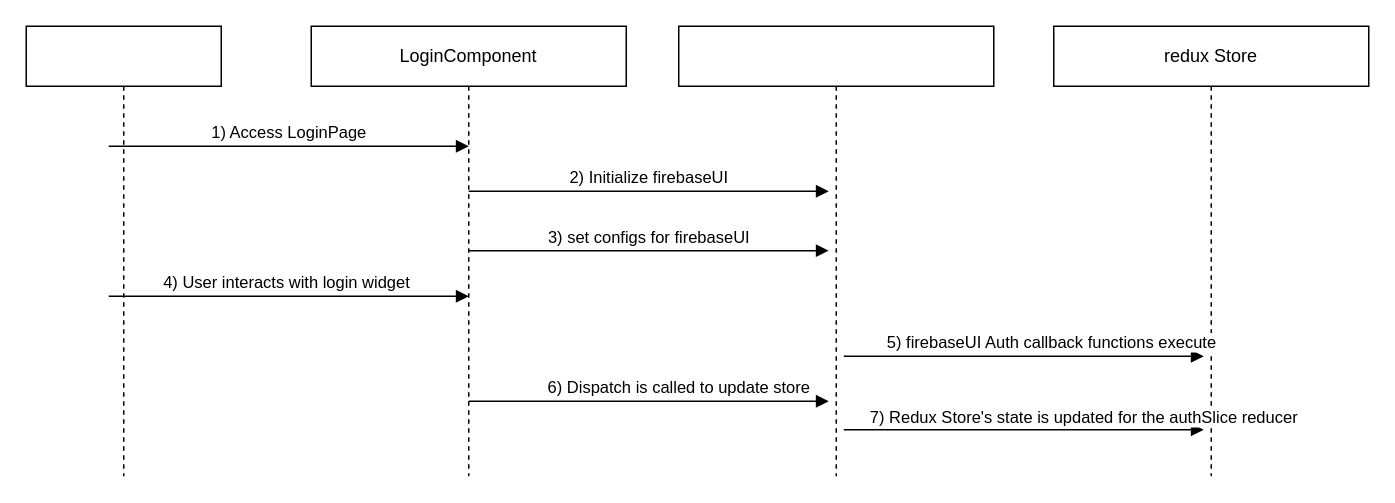
The diagram is 1395 pixels wide and 503 high, and some of its shapes have lost their labels. The shapes that lost their labels are listed below. From the top down, each one's box as (x1, y1, x2, y2) in pixels, then its label:
(25, 25, 221, 476): User
(677, 25, 994, 476): firebaseUI
